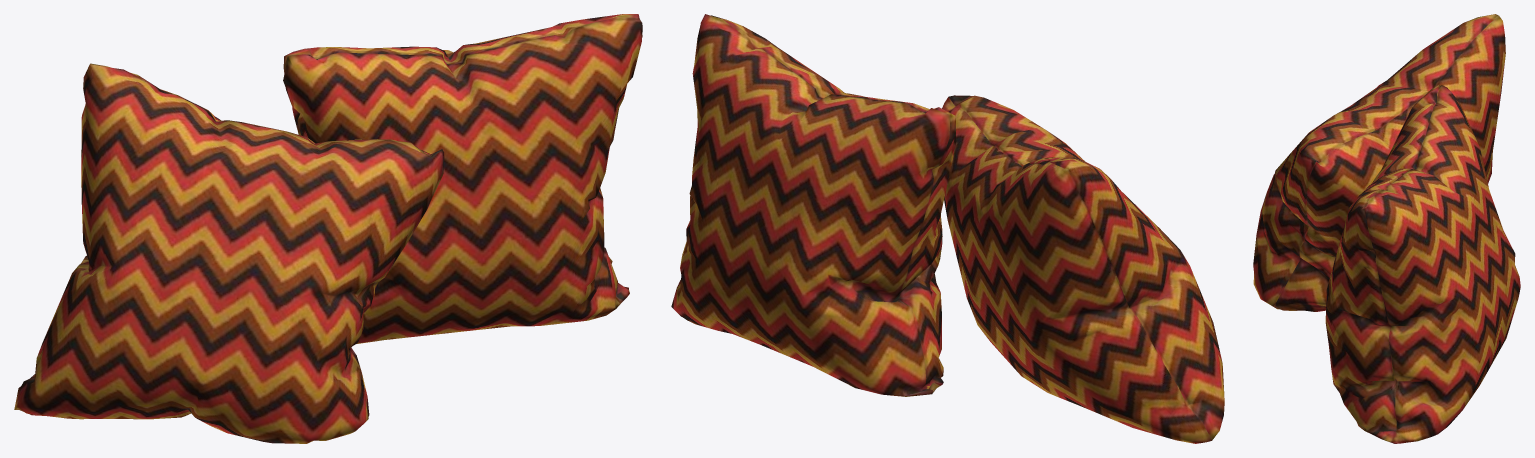
Rendered from throw_pillows_01.lod1.glb.
3 views of the same model, side by side, from view 1: azimuth 30°, elevation 25°; view 2: azimuth 150°, elevation 25°; view 3: azimuth 270°, elevation 25° (orthographic). The views are drawn at different scales.
Parts seen in each view (by area): view 1: throw_pillows_01_pillow01, throw_pillows_01_pillow02; view 2: throw_pillows_01_pillow02, throw_pillows_01_pillow01; view 3: throw_pillows_01_pillow02, throw_pillows_01_pillow01.
Boxes of the visible parts, bbox=[...] form: throw_pillows_01_pillow01: bbox=[14, 63, 444, 443]; throw_pillows_01_pillow02: bbox=[283, 14, 642, 343]; throw_pillows_01_pillow02: bbox=[671, 14, 955, 396]; throw_pillows_01_pillow01: bbox=[942, 95, 1224, 443]; throw_pillows_01_pillow02: bbox=[1325, 85, 1520, 443]; throw_pillows_01_pillow01: bbox=[1253, 14, 1505, 311].
Bounding box in the file's own units: 0.9401 × 0.4501 × 0.451.
Materials: 1 (1 with a texture image).
